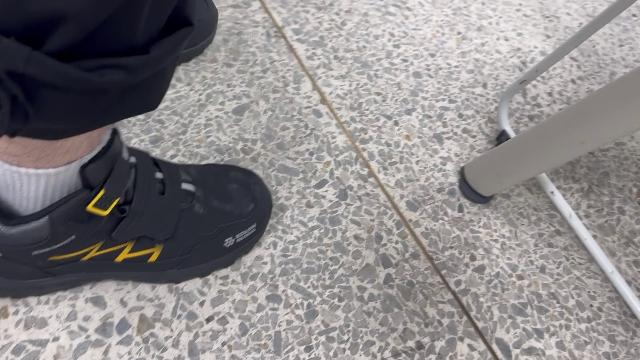shoe_worn: (1, 140, 276, 301)
